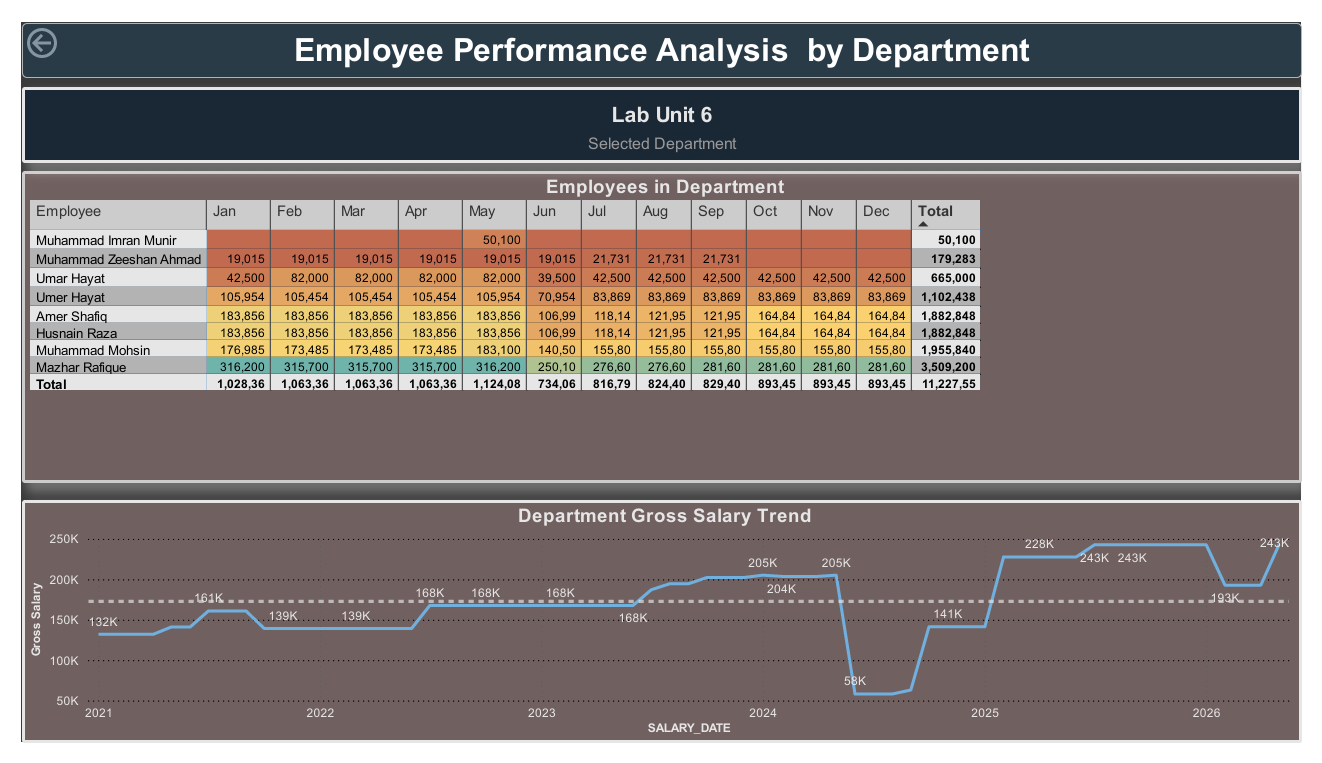

The dashboard page shown, as its layout file describes it:
{"tool":"powerbi","page":{"name":"Deprtment Employee Details","canvas":[1280,720],"ordinal":8},"visuals":[{"type":"actionButton","box":[0,0,100,40],"z":0},{"type":"textbox","box":[0,0,1280,55.5],"z":1000},{"type":"pivotTable","title":"Employees in Department","fields":{"Rows":["AI_PAYROLL_DATA.EMPLOYEE_NAME"],"Values":["Sum(AI_PAYROLL_DATA.GROSS_SALARY)"],"Columns":["DateTable.Month"]},"box":[0,148.4,1280,311.3],"z":2000},{"type":"lineChart","title":"Department Gross Salary Trend","fields":{"Category":["AI_PAYROLL_DATA.SALARY_DATE"],"Y":["Sum(AI_PAYROLL_DATA.GROSS_SALARY)"]},"box":[0,476.5,1280,243.7],"z":3000},{"type":"card","fields":{"Values":["AI_PAYROLL_DATA.Selected Department"]},"box":[0,63.9,1280,76],"z":5000}]}

Visuals, with their boxes in screenshot pixels (x1, y1, x2, y2), scaled from the page's 1280x720 canvas onto the 1322x763 screenshot:
actionButton: (0,0,103,42)
textbox: (0,0,1321,59)
"Employees in Department" pivotTable: (0,157,1321,487)
"Department Gross Salary Trend" lineChart: (0,505,1321,762)
card - AI_PAYROLL_DATA.Selected Department: (0,68,1321,148)
